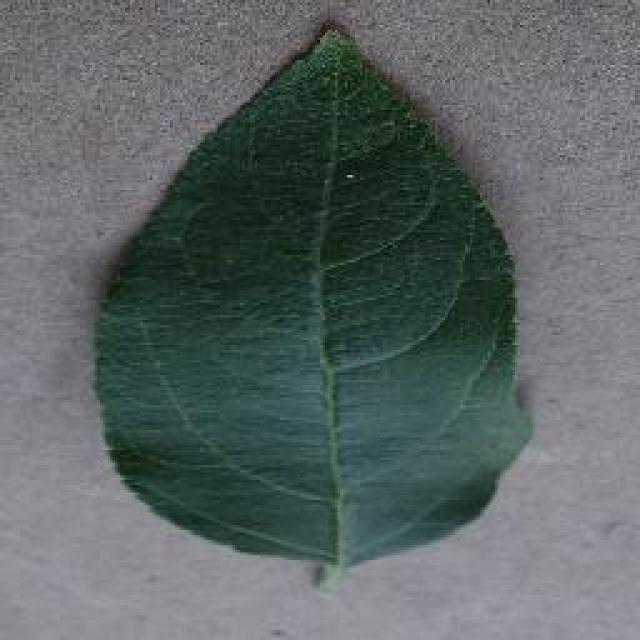apple scab disease: (90, 18, 535, 590)
